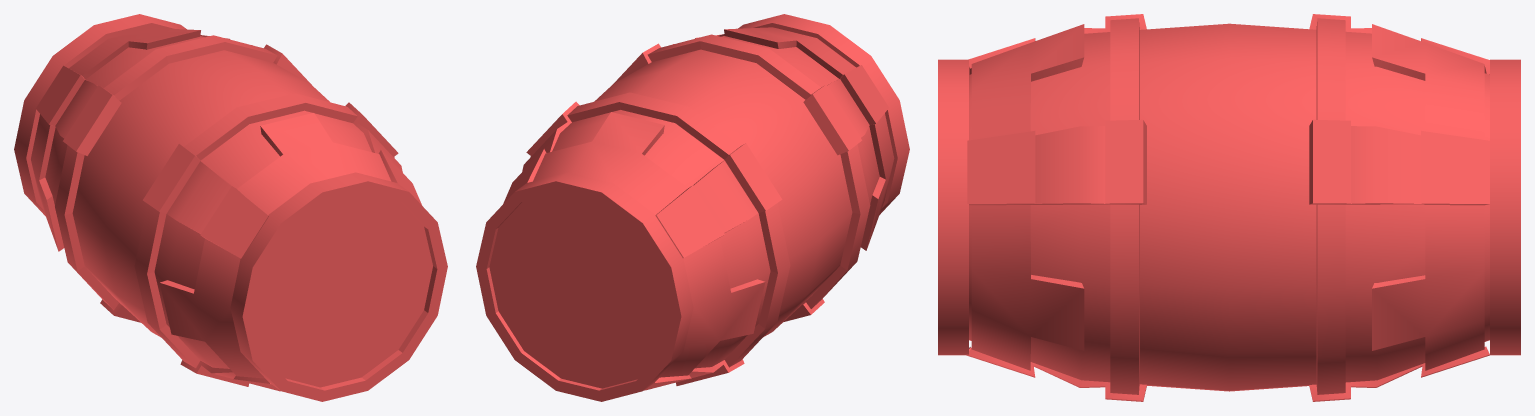
The model's file is StrongBarrel.fbx.
The picture shows the model from 3 angles, left to right: view 1: azimuth 30°, elevation 25°; view 2: azimuth 150°, elevation 25°; view 3: azimuth 270°, elevation 25°; orthographic projection. The views are drawn at different scales.
Visible parts, largest first — view 1: pasted__jkj; view 2: pasted__jkj; view 3: pasted__jkj.
Part boxes in pixels (x1,y1,x2,y2): pasted__jkj: (14,14,447,401); pasted__jkj: (476,14,909,401); pasted__jkj: (938,14,1520,401).
Bounding box in the file's own units: 1.88 × 1.86 × 2.84.
